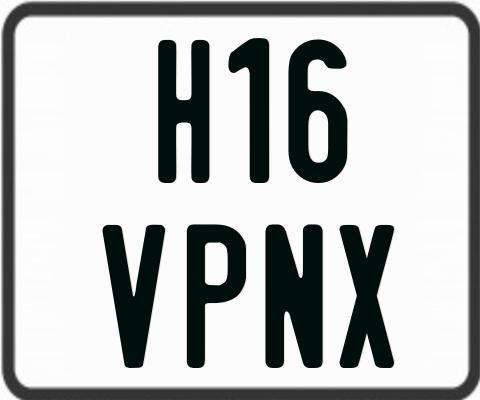1: (227, 37, 269, 186)
6: (286, 38, 346, 182)
H: (158, 40, 214, 187)
N: (263, 221, 324, 365)
P: (185, 223, 249, 367)
V: (102, 222, 168, 371)
X: (339, 223, 395, 371)
